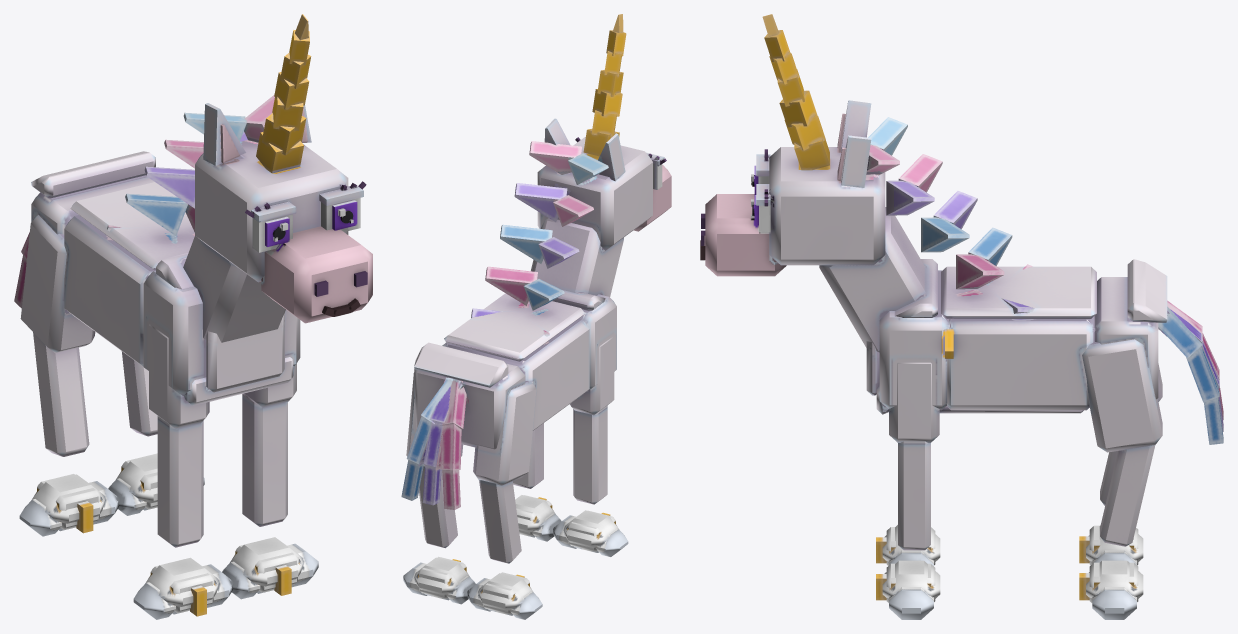
File: LicorneCeleste_Rig.fbx
The picture shows the model from 3 angles, left to right: view 1: azimuth 30°, elevation 25°; view 2: azimuth 150°, elevation 25°; view 3: azimuth 270°, elevation 25°; orthographic projection. The views are drawn at different scales.
Parts seen in each view (by area): view 1: Body, Head, LegBR, LegFR, LegFL, LegBL; view 2: Body, Head, LegBR, LegFR, Tail, LegBL, LegFL; view 3: Body, Head, LegBL, LegFL, Tail, LegBR, LegFR.
Boxes of the visible parts, x1,y1,x2,y2 form: Body: (31, 151, 300, 405); Head: (164, 14, 372, 323); LegBR: (19, 215, 119, 536); LegFR: (133, 324, 233, 619); LegFL: (222, 363, 318, 599); LegBL: (108, 351, 204, 515); Body: (414, 218, 623, 449); Head: (514, 14, 671, 250); LegBR: (467, 381, 542, 619); LegFR: (553, 336, 628, 556); Tail: (401, 377, 466, 509); LegBL: (403, 372, 475, 604); LegFL: (513, 423, 561, 541); Body: (819, 191, 1167, 414); Head: (700, 14, 942, 276); LegBL: (1079, 339, 1162, 619); LegFL: (876, 362, 940, 619); Tail: (1158, 300, 1223, 444); LegBR: (1079, 363, 1162, 565); LegFR: (876, 525, 940, 565).
Size of the model in its own units: 1.71 by 6 by 4.97.
1 material, 1 textured.
